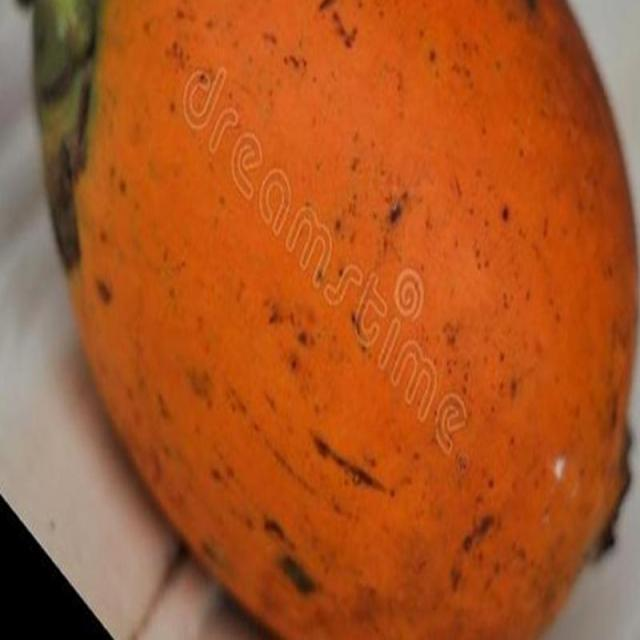good: (18, 0, 636, 639)
